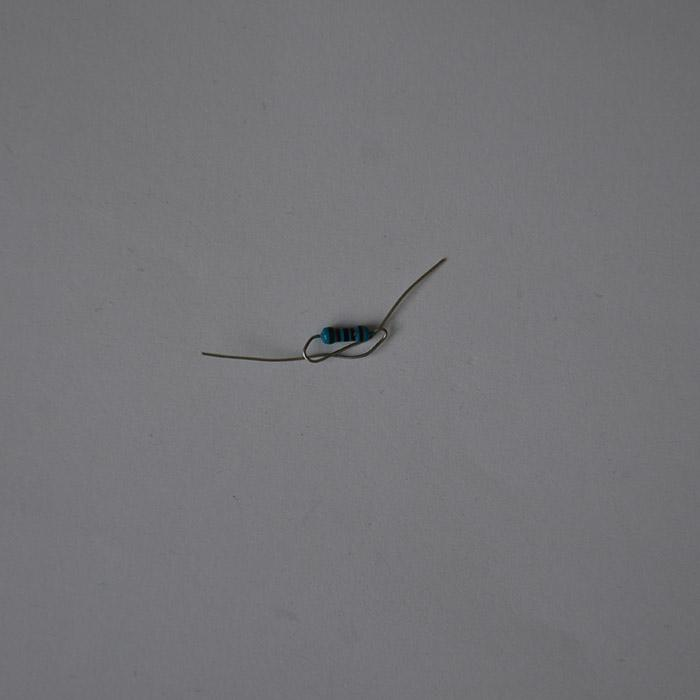resistor: (317, 324, 372, 344)
